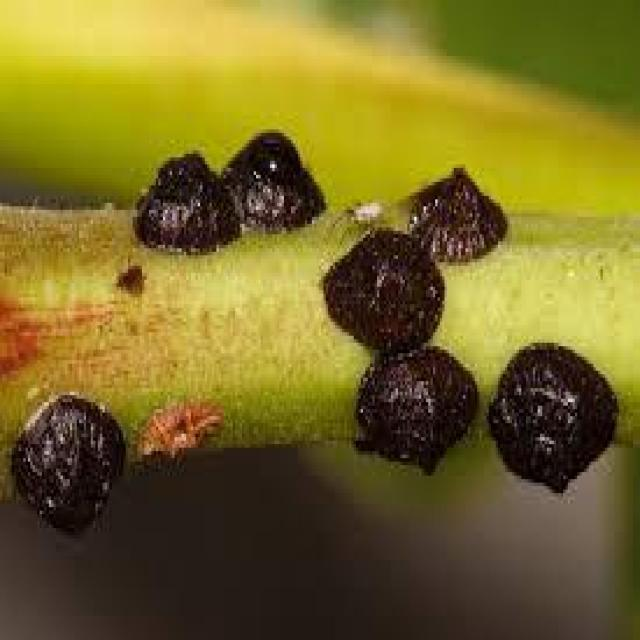BlackScale: (132, 130, 302, 252), (488, 342, 616, 497), (12, 392, 118, 549), (321, 228, 442, 356), (356, 346, 477, 472), (407, 168, 505, 259)
